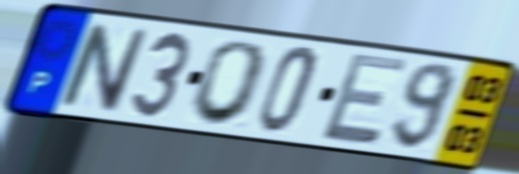0: (257, 44, 324, 138)
3: (128, 29, 195, 121)
9: (391, 60, 458, 156)
E: (318, 49, 412, 147)
N: (56, 19, 151, 115)
O: (186, 38, 271, 128)
